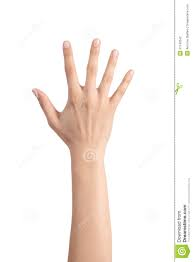hand: (21, 29, 147, 166)
